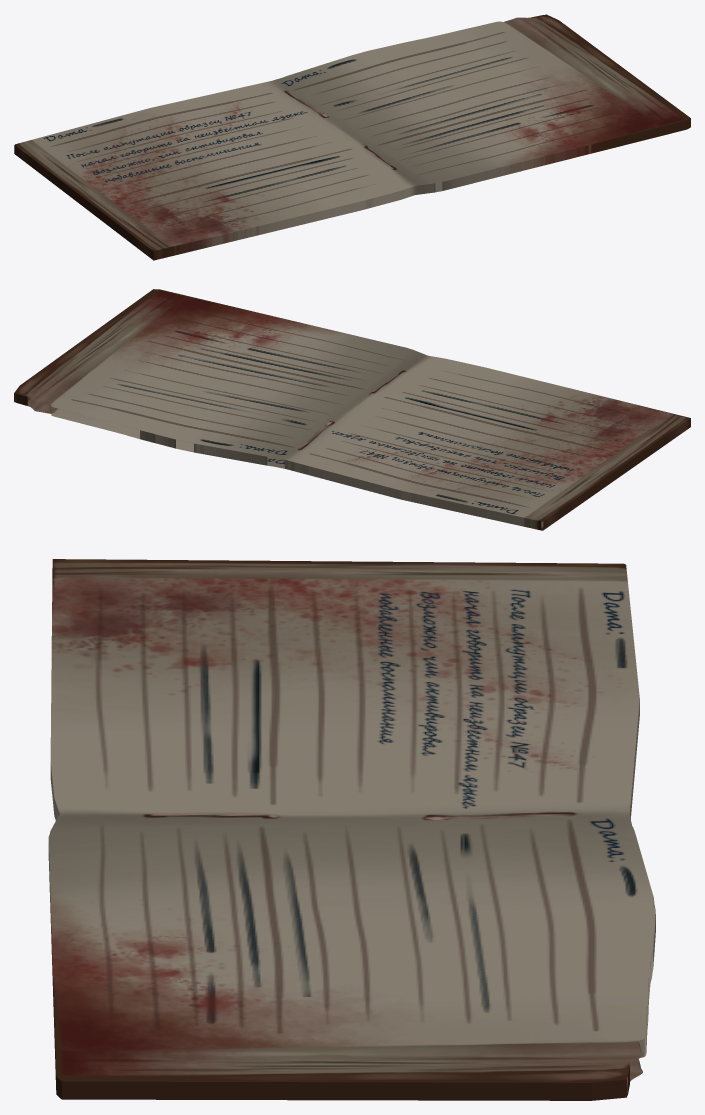
Rendered from medical_card_on_the_second_level.fbx.
3 views of the same model, one above another, from view 1: azimuth 30°, elevation 25°; view 2: azimuth 150°, elevation 25°; view 3: azimuth 270°, elevation 25° (orthographic). The views are drawn at different scales.
Visible parts, largest first — view 1: medical_card_on_the_second_level; view 2: medical_card_on_the_second_level; view 3: medical_card_on_the_second_level.
Boxes of the visible parts, left/top/right/bottom form: medical_card_on_the_second_level: left=14, top=14, right=690, bottom=260; medical_card_on_the_second_level: left=14, top=289, right=690, bottom=530; medical_card_on_the_second_level: left=48, top=559, right=655, bottom=1100.
Bounding box in the file's own units: 84 × 1.35 × 41.19.
